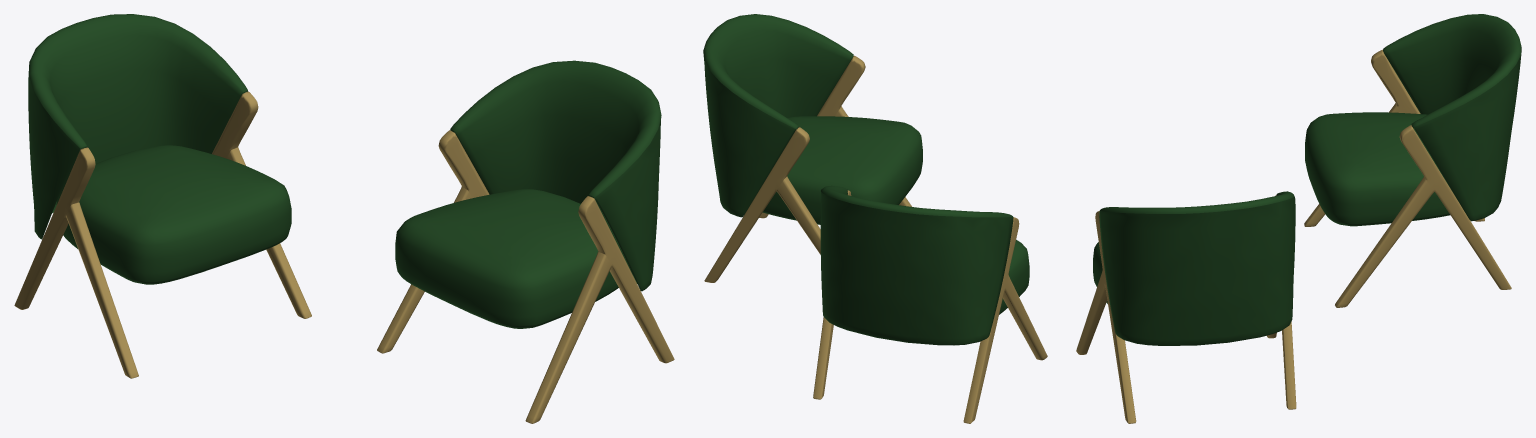
File: coffeeshop_seating_level03.glb
The picture shows the model from 3 angles, left to right: view 1: azimuth 30°, elevation 25°; view 2: azimuth 150°, elevation 25°; view 3: azimuth 270°, elevation 25°; orthographic projection. The views are drawn at different scales.
Visible parts, largest first — view 1: Level3_Chairs.002; view 2: Level3_Chairs.002; view 3: Level3_Chairs.002.
Boxes of the visible parts, x1,y1,x2,y2 form: Level3_Chairs.002: [14, 14, 674, 423]; Level3_Chairs.002: [703, 14, 1047, 423]; Level3_Chairs.002: [1076, 14, 1521, 423].
Size of the model in its own units: 4.44 by 2.43 by 4.25.
